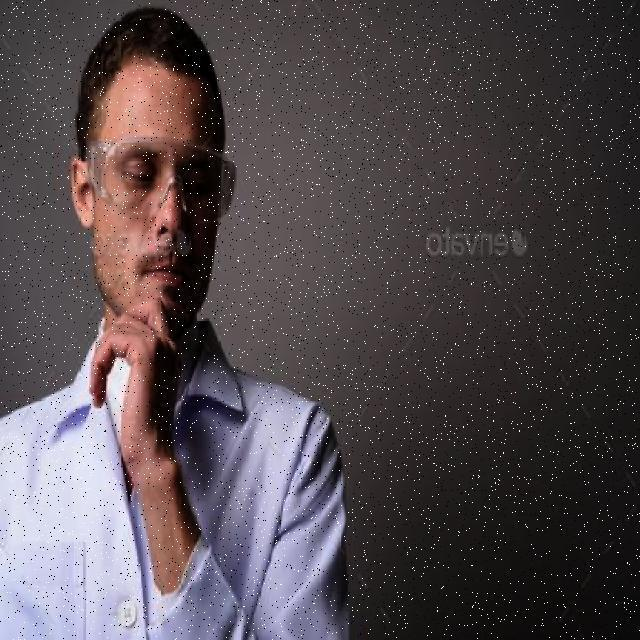Goggles: (78, 128, 250, 234)
